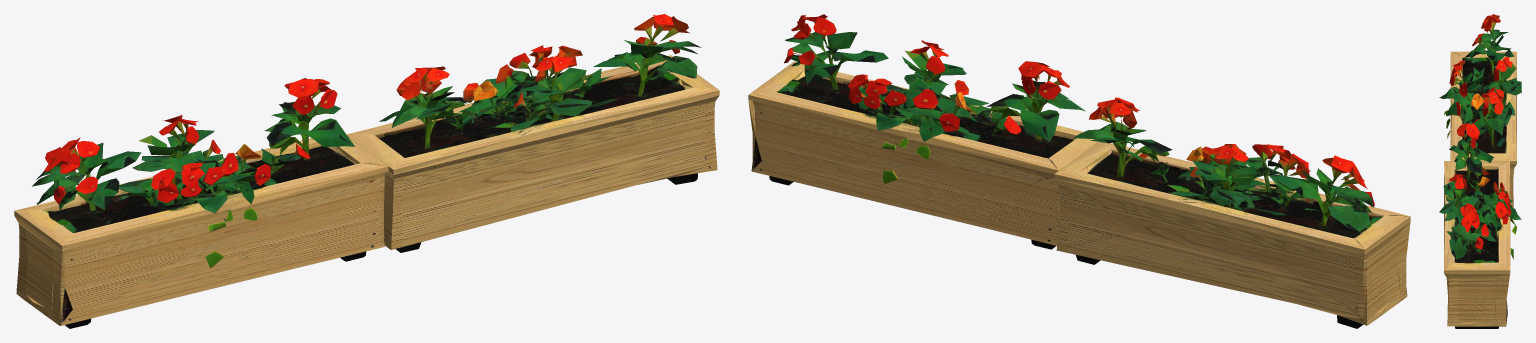
The model's file is flower-box-long.glb.
3 renders of one model, left to right at view 1: azimuth 30°, elevation 25°; view 2: azimuth 150°, elevation 25°; view 3: azimuth 270°, elevation 25°, orthographic. The views are drawn at different scales.
Size of the model in its own units: 2 by 0.5 by 0.32.
1 material, 1 textured.
